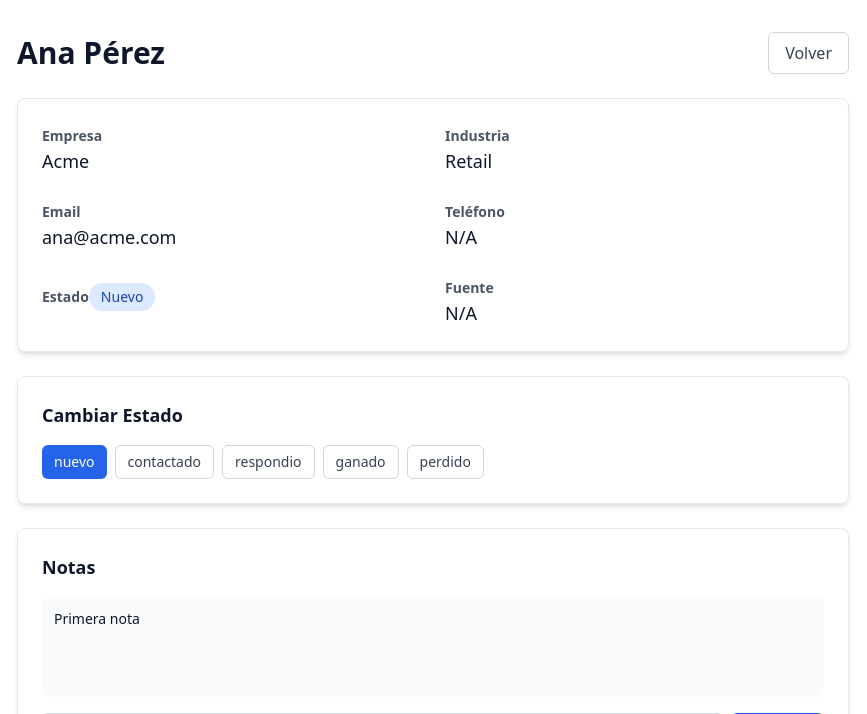
Test: LeadDetailPage › only the clicked status shows loading and all actions lock while it saves (regression)
Expected: the heading "Ana Pérez" is shown, [17,35,165,71]
Step 1. Click the button "ganado" → click(361, 462), box [322,445,399,479]
(page scrolled)
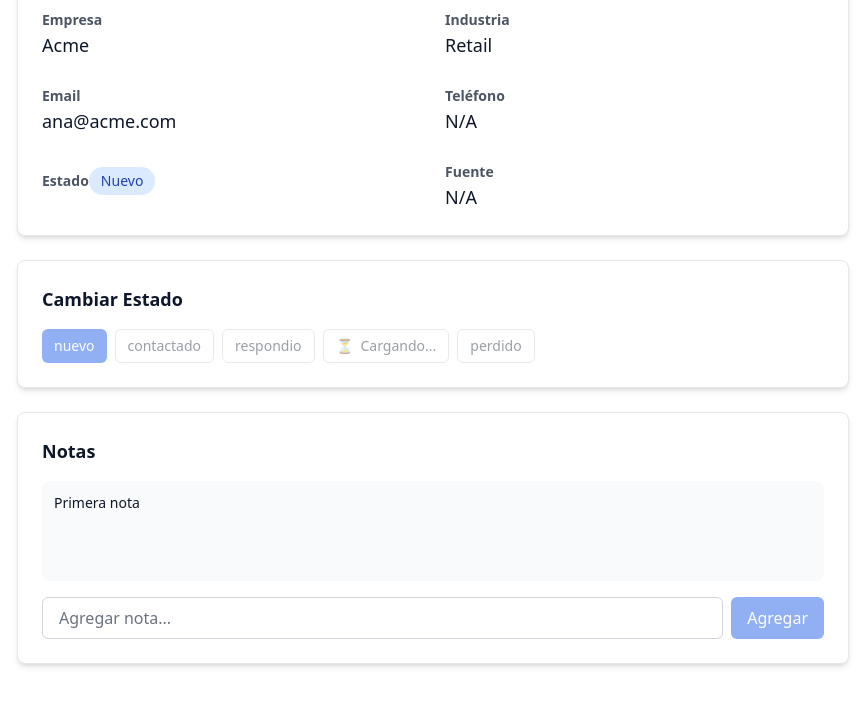
Now the text "Cargando..." is shown once, box [336,336,436,356]
Now the button "perdido" is disabled, box [457,329,535,363]
// antes: "Agregar" seguía activo y un PUT de nota pisaba el cambio de estado
Step 2. Type "x" into the field with placeholder "Agregar nota..." → (383, 618), box [42,597,723,639]
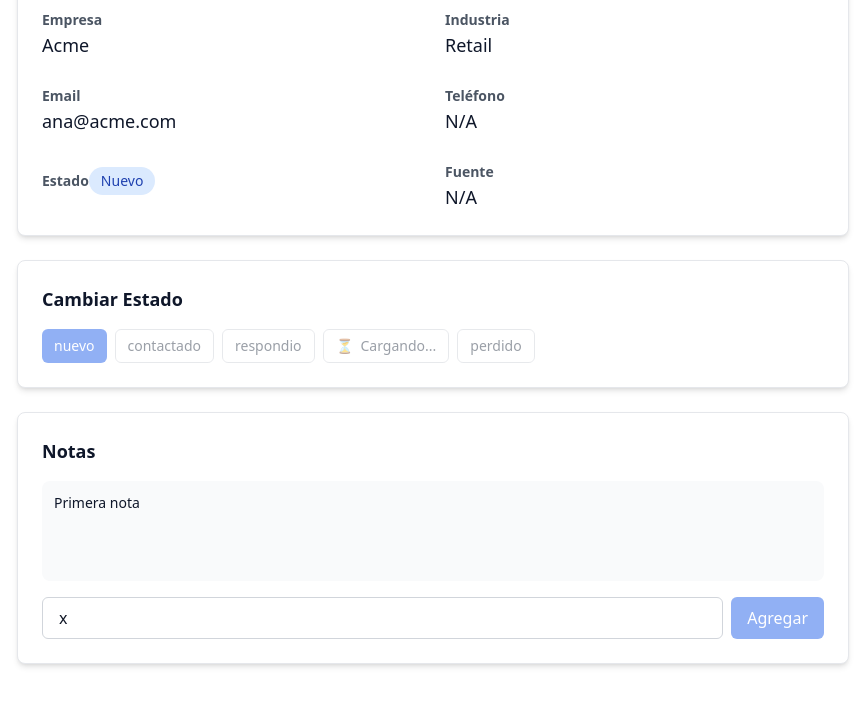
Now the button "Agregar" is disabled, box [731,597,824,639]
Step 3. Click the button "perdido" → click(496, 346), box [457,329,535,363]
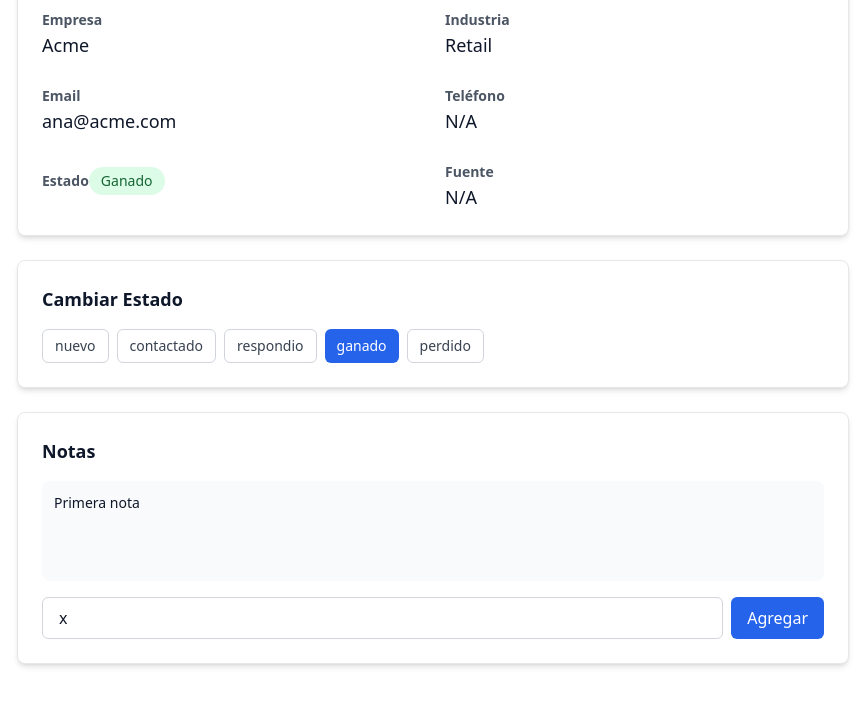
Now the button "Agregar" is enabled, box [731,597,824,639]
